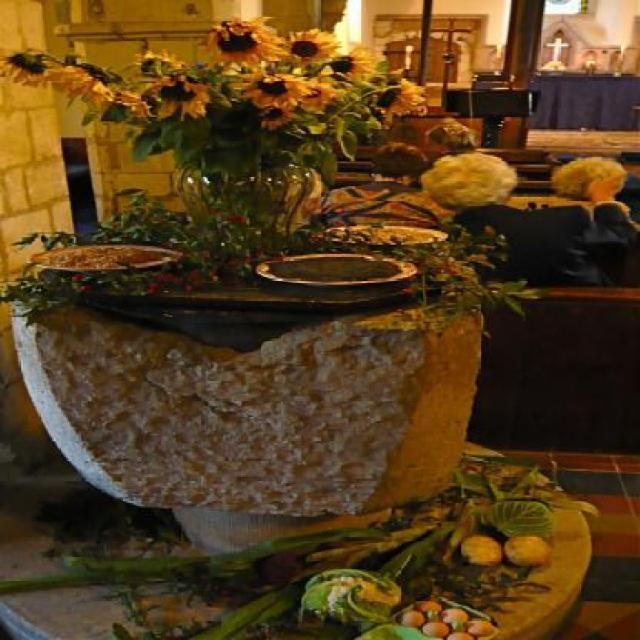Person: (390, 142, 587, 256), (315, 142, 442, 232), (552, 157, 636, 206)
